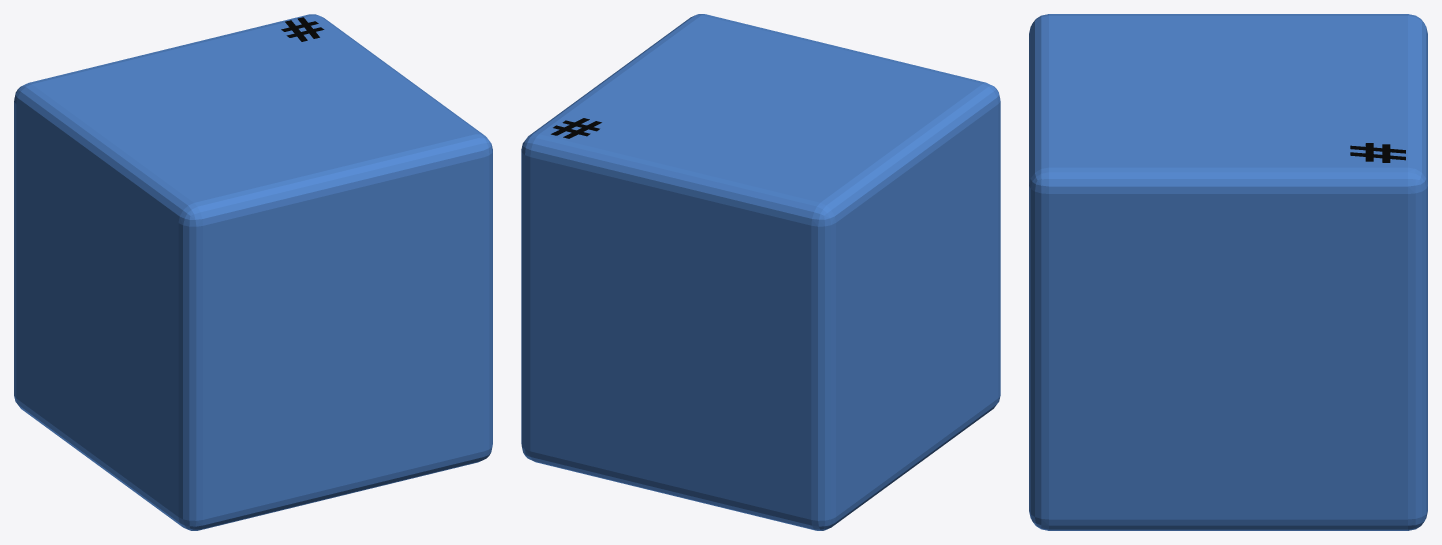
Rendered from Subjekt_Hashtag.dae.
The picture shows the model from 3 angles, left to right: view 1: azimuth 30°, elevation 25°; view 2: azimuth 150°, elevation 25°; view 3: azimuth 270°, elevation 25°; orthographic projection. The views are drawn at different scales.
Parts seen in each view (by area): view 1: Cube; view 2: Cube; view 3: Cube, Plane.
Part boxes in pixels (x1,y1,x2,y2): Cube: [14, 14, 492, 530]; Cube: [521, 14, 1000, 530]; Cube: [1029, 14, 1427, 530]; Plane: [1350, 143, 1405, 162].
Size of the model in its own units: 2 by 2 by 2.01.
Materials: 2 (1 with a texture image).
